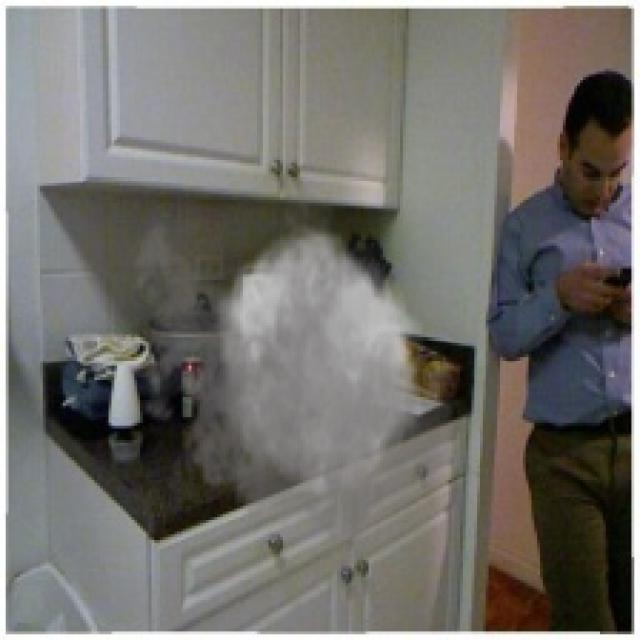smoke: (123, 155, 471, 574)
